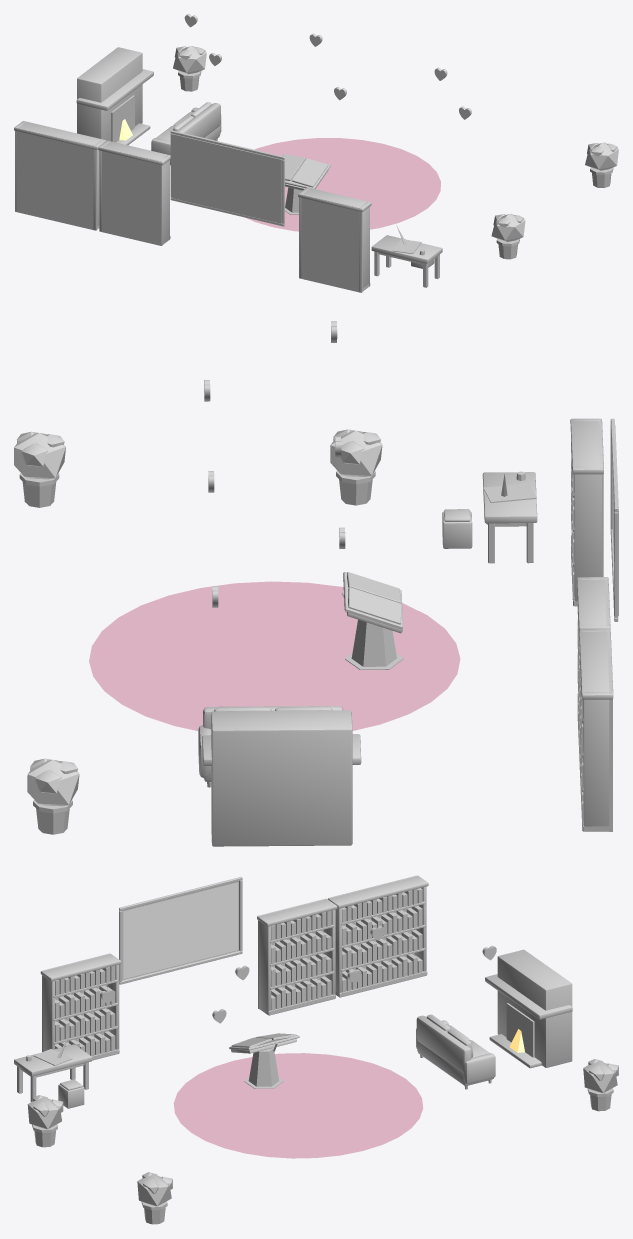
The model's file is zon_room_diary.glb.
3 renders of one model, top to bottom at view 1: azimuth 30°, elevation 25°; view 2: azimuth 150°, elevation 25°; view 3: azimuth 270°, elevation 25°, orthographic. The views are drawn at different scales.
Parts seen in each view (by area): view 1: SM_zon_room_diary_kit_interior_xm1_z0, SM_zon_room_diary_room_rug_xm1_z0; view 2: SM_zon_room_diary_kit_interior_xm1_z0, SM_zon_room_diary_room_rug_xm1_z0; view 3: SM_zon_room_diary_kit_interior_xm1_z0, SM_zon_room_diary_room_rug_xm1_z0, SCREEN_fur_screen_diary__0.
Part boxes in pixels (bbox=[...]): SM_zon_room_diary_kit_interior_xm1_z0: bbox=[14, 46, 618, 292]; SM_zon_room_diary_room_rug_xm1_z0: bbox=[245, 138, 440, 231]; SM_zon_room_diary_kit_interior_xm1_z0: bbox=[14, 418, 618, 846]; SM_zon_room_diary_room_rug_xm1_z0: bbox=[89, 581, 460, 730]; SM_zon_room_diary_kit_interior_xm1_z0: bbox=[14, 875, 618, 1224]; SM_zon_room_diary_room_rug_xm1_z0: bbox=[173, 1053, 423, 1158]; SCREEN_fur_screen_diary__0: bbox=[123, 882, 238, 978].
Size of the model in its own units: 15.62 by 4.05 by 15.35.
